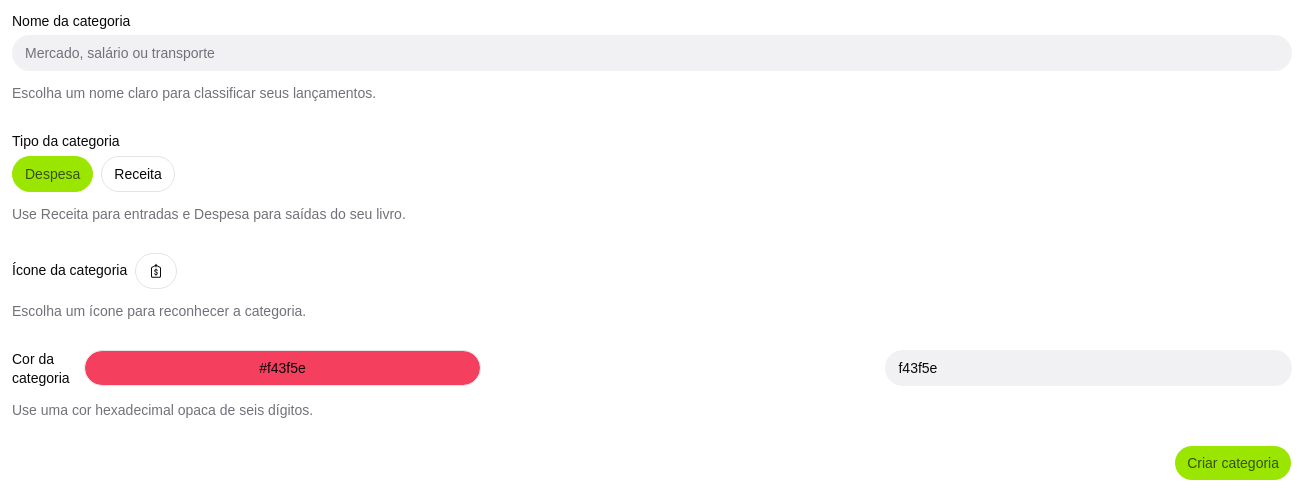
Test: CategoryForm › validates the name before sending a command
The width and height of the screenshot is (1304, 498).
Click the button "Criar categoria".
click(1233, 463)  # box [1174,445,1292,481]
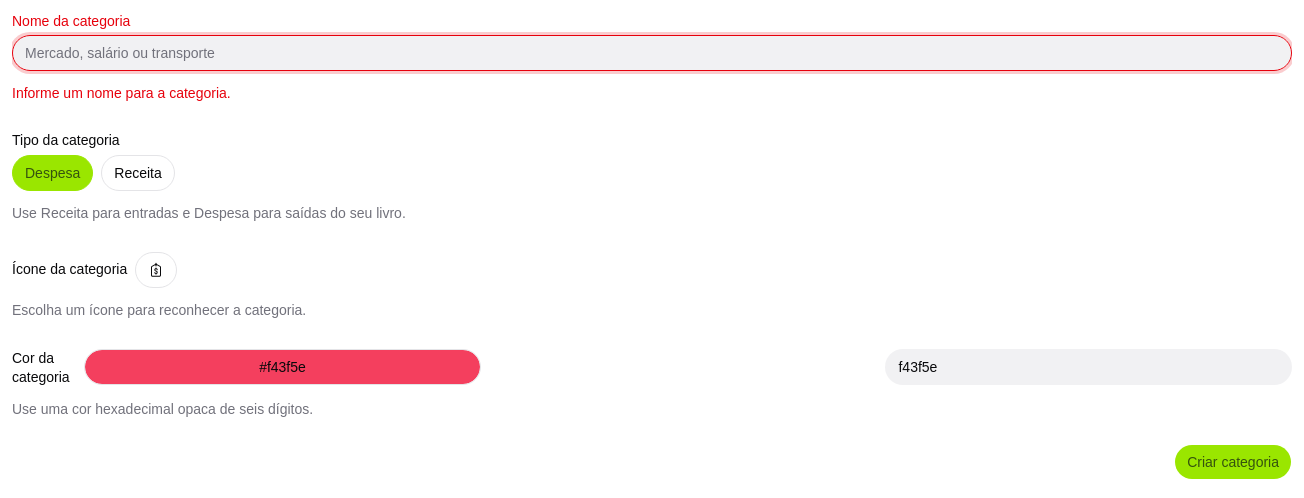
expect the text "Informe um nome para a categoria." is shown: met, box [12,85,231,101]
